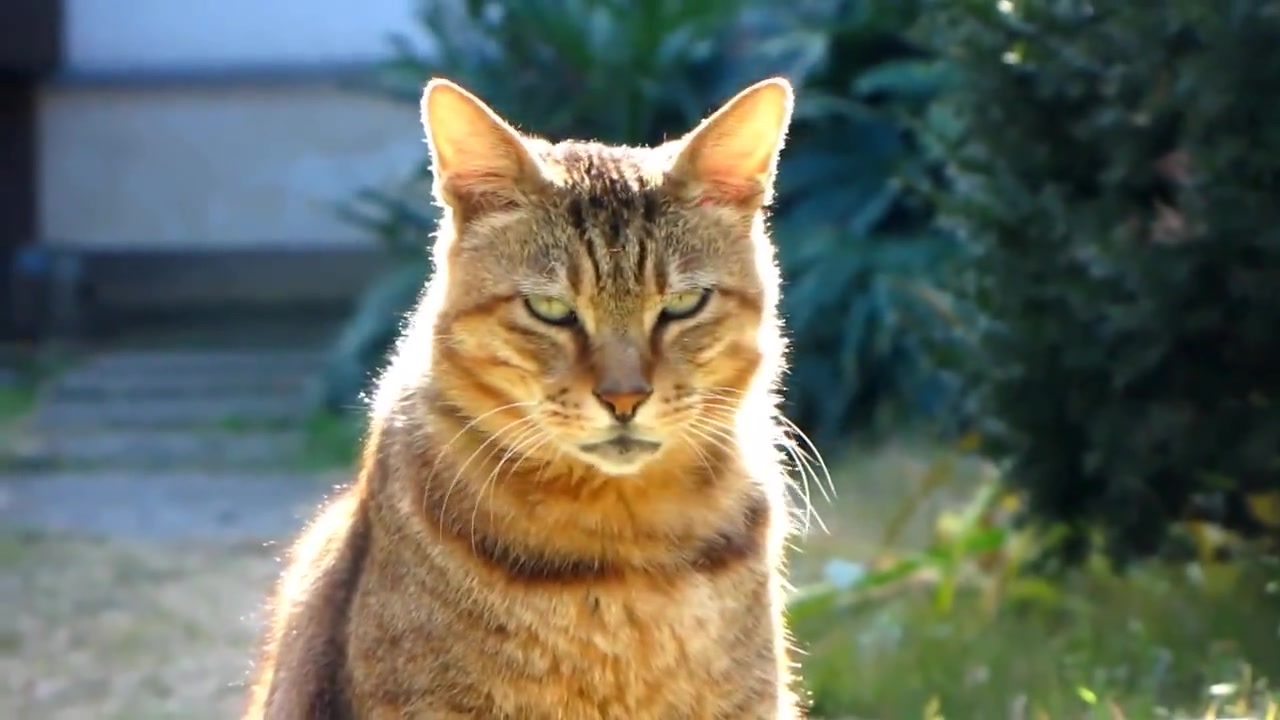cat: (239, 75, 819, 720)
